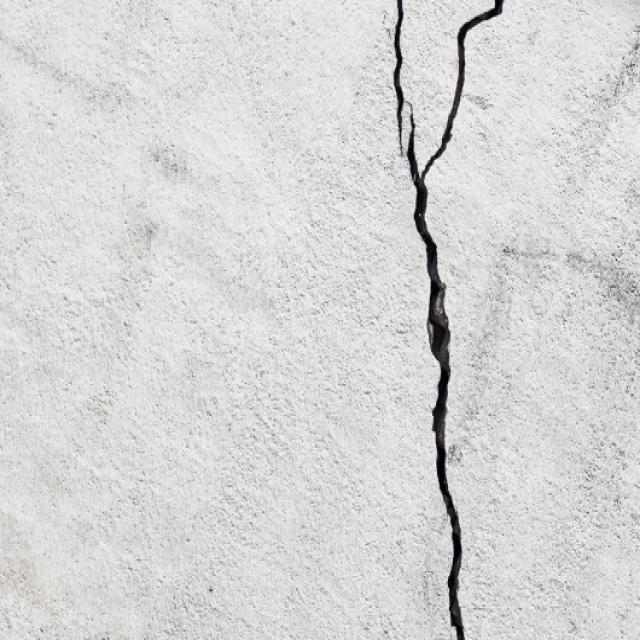Wall_Cracks: (294, 0, 532, 640)
